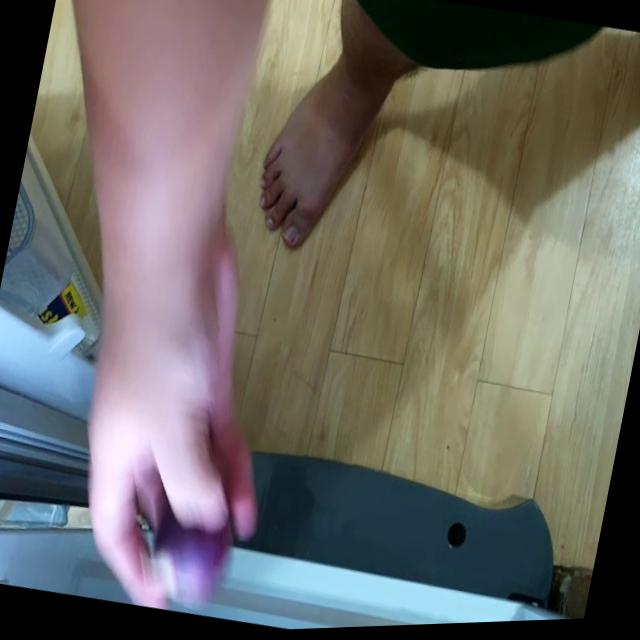onion: (156, 496, 244, 601)
